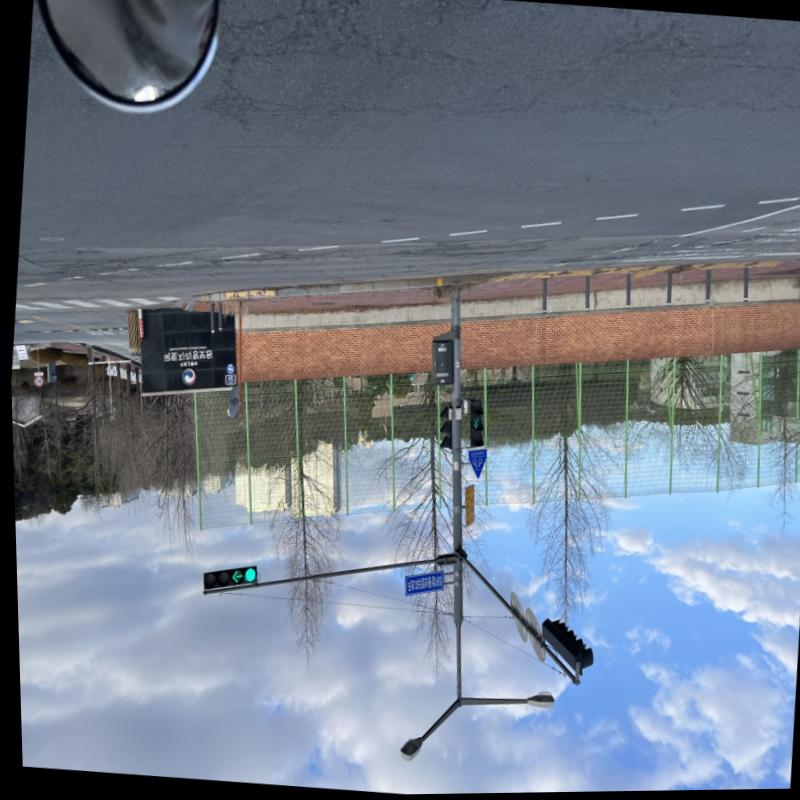green: (241, 568, 253, 584)
left: (228, 569, 240, 586)
